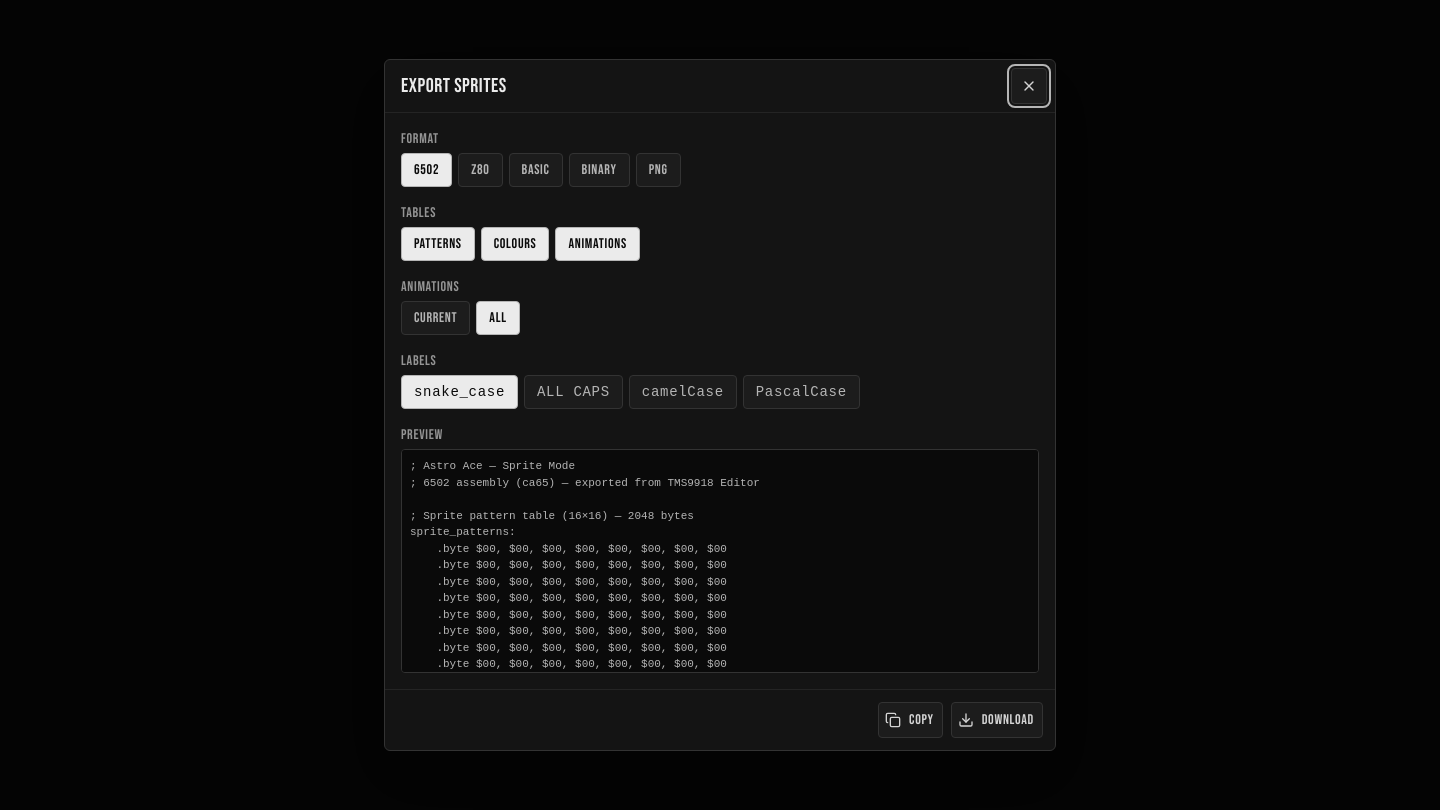
Test: ExportDialog (sprite scope) › reports the sprite-sheet size and the film-strip size for PNG
What coordinates should you click on to do the following:
click the button "PNG"
I would click on:
 (658, 170)
Its box is [636,153,681,187].
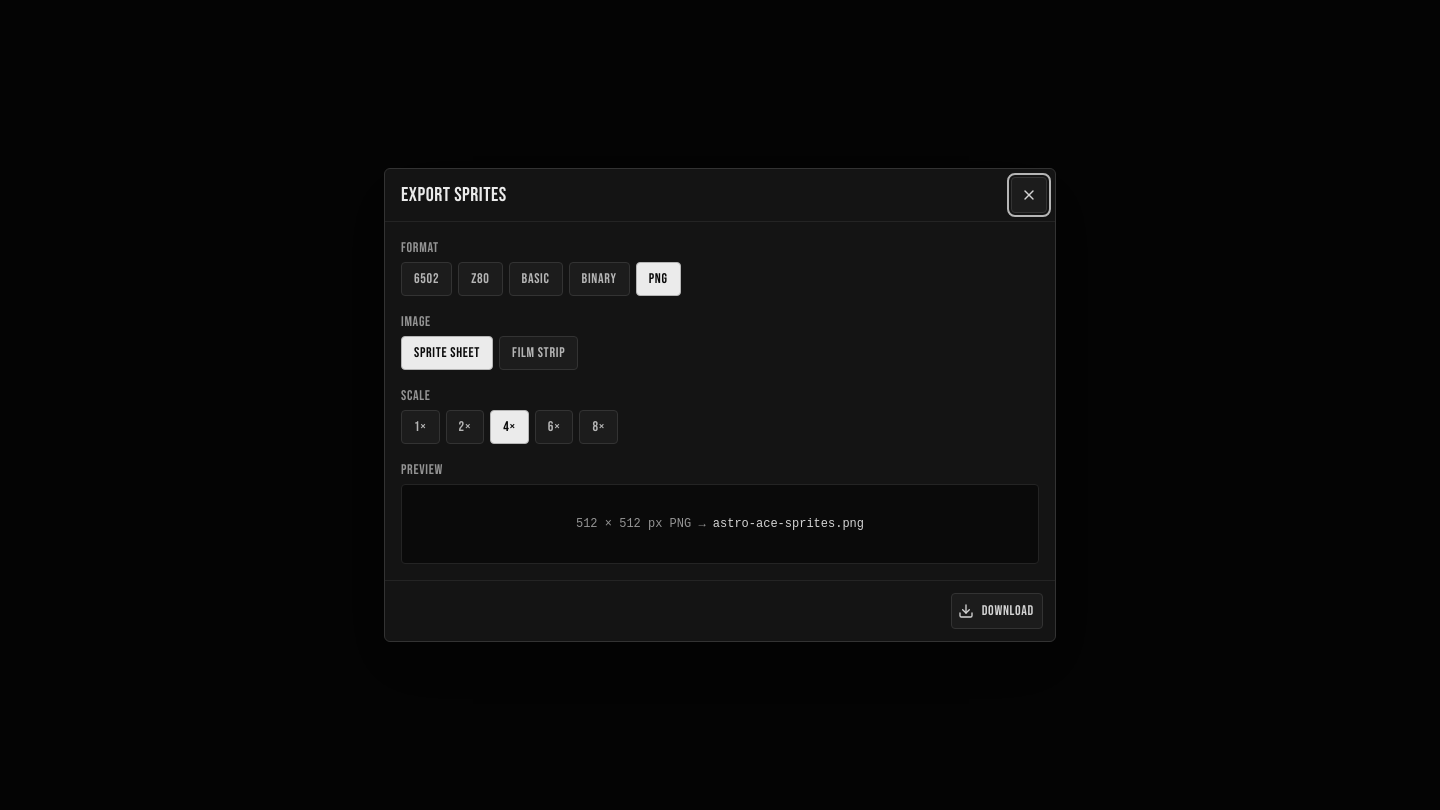
Now the text "512 × 512 px" is shown, box [576,517,713,531]
Now the text "astro-ace-sprites.png" is shown, box [713,517,864,531]
What coordinates should you click on to do the following:
click the button "Film Strip"
I would click on:
 (539, 353)
Its box is [499,336,578,370].
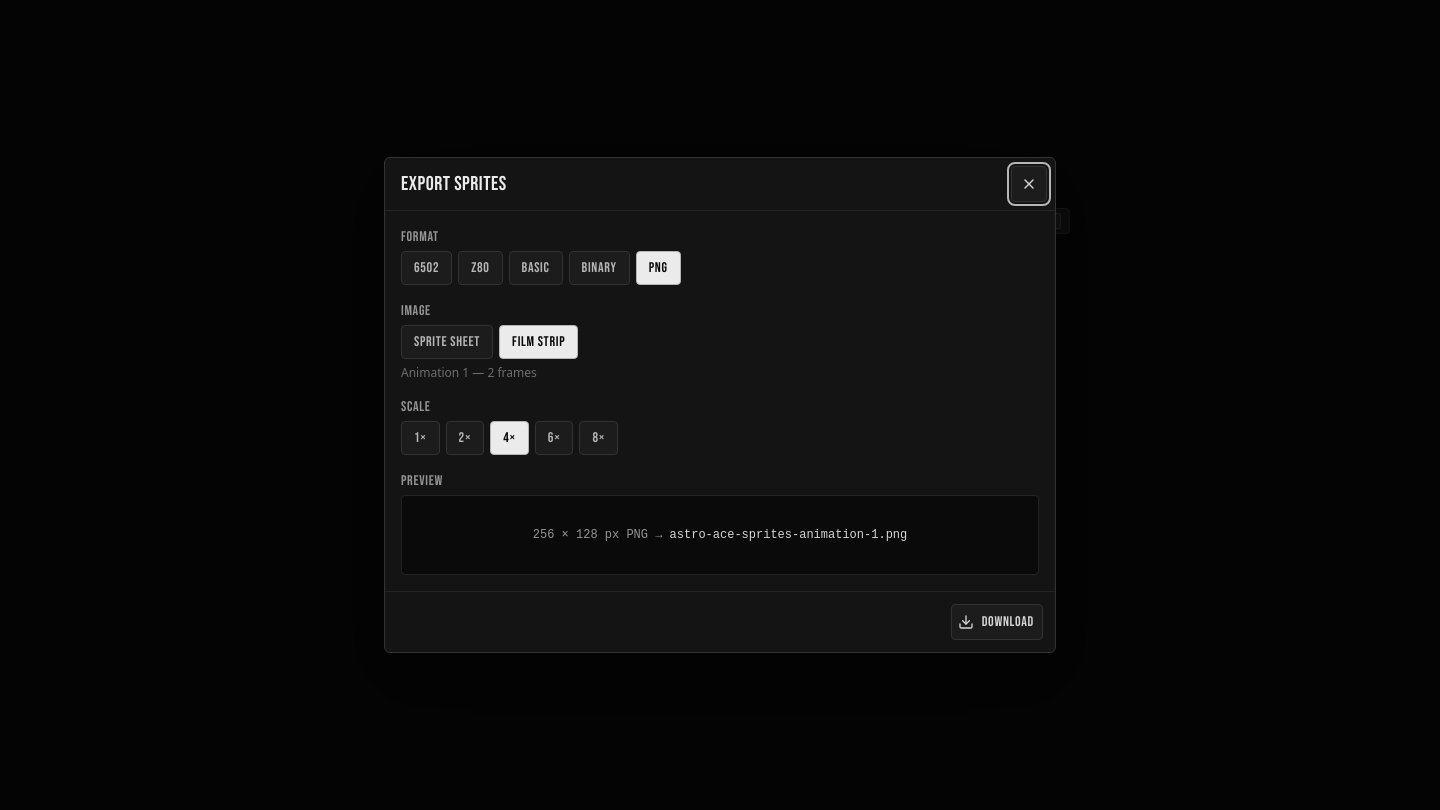
Now the text "256 × 128 px" is shown, box [533,528,670,542]
Now the text "astro-ace-sprites-animation-1.png" is shown, box [670,528,907,542]
